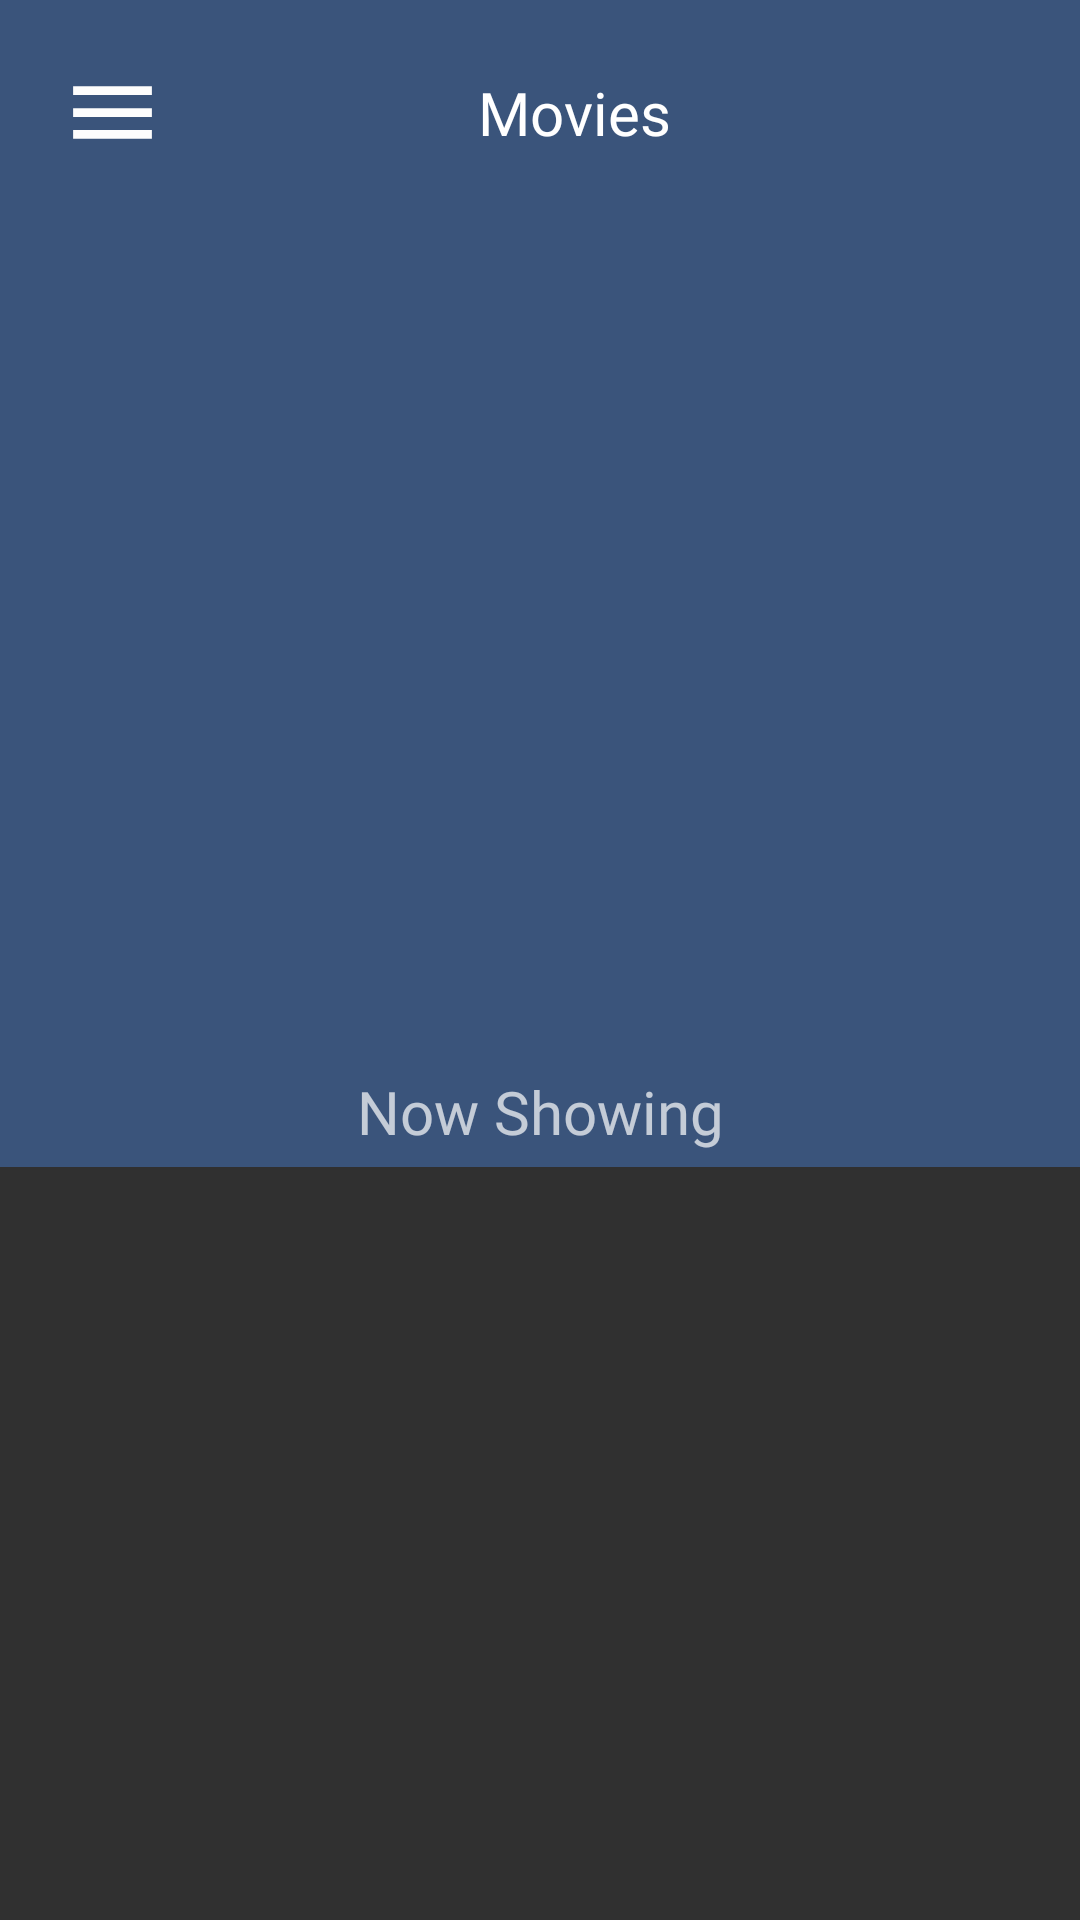

Named icons in this screenshot (1080w x 1920h) and their centers, [x,y]:
menu: [112,112]
